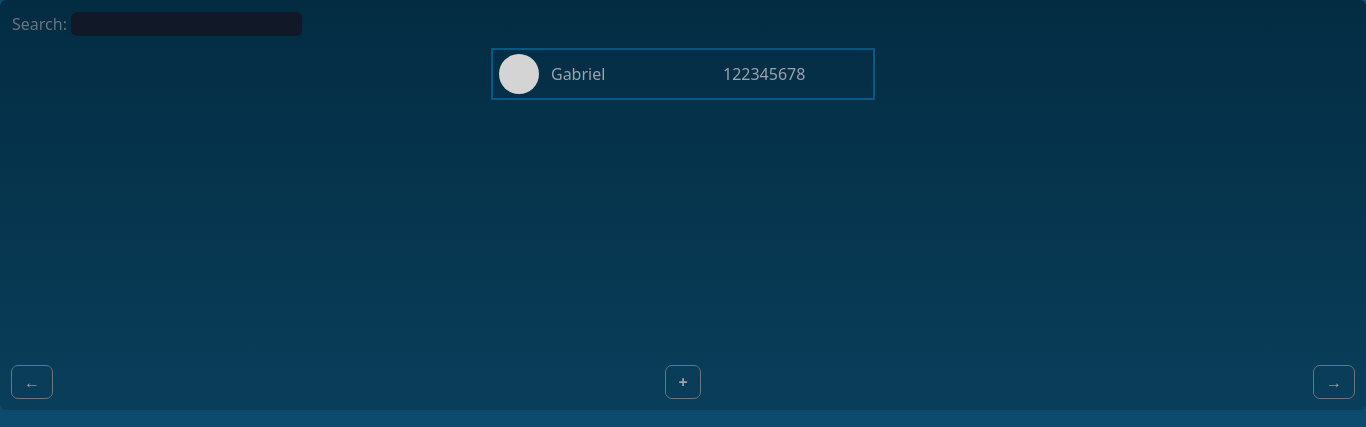
Scenario: Integration test for the contact table › When you click the add btn you must have another contact with default name
The image size is (1366, 427).
Click the button "+" at (683, 382), box [666,366,700,398]
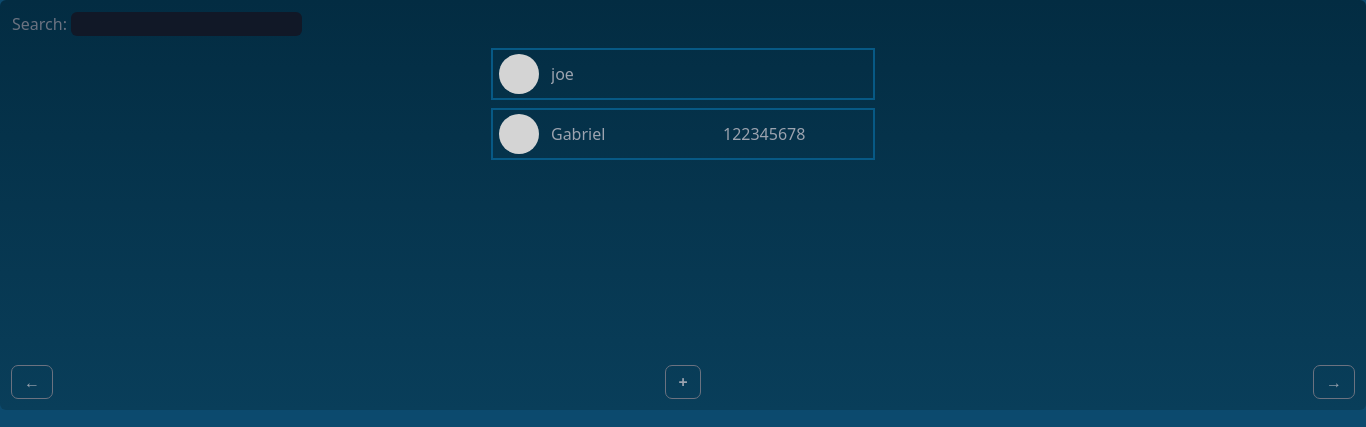
Check: the text "joe" is shown, box [551,63,574,85]
